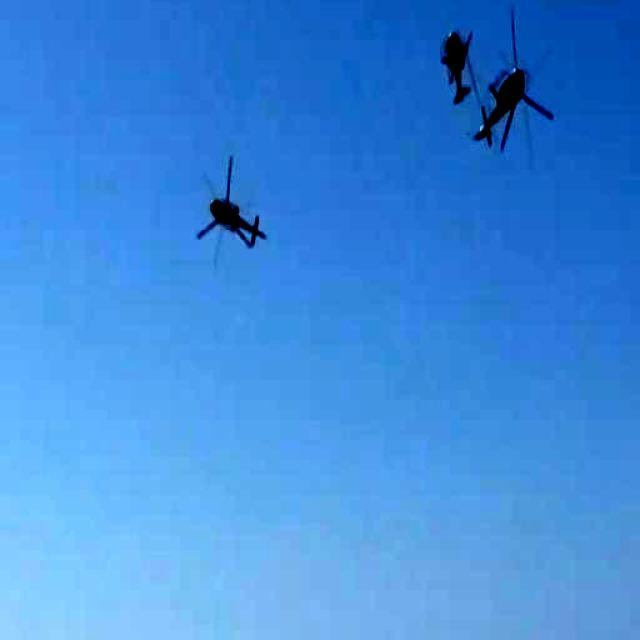drone: (189, 122, 298, 278), (476, 50, 564, 170), (424, 0, 481, 125)
